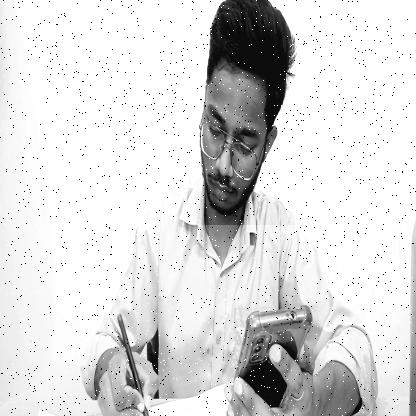Distracted: (196, 0, 295, 225)
